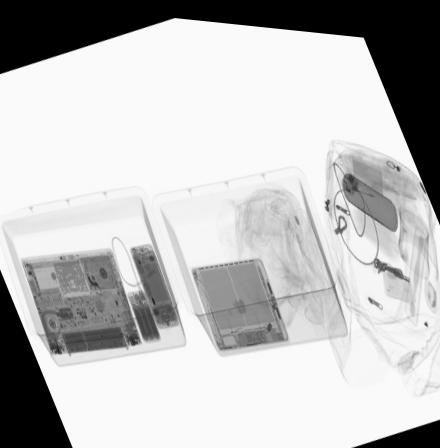Powerbank: (126, 286, 164, 341)
